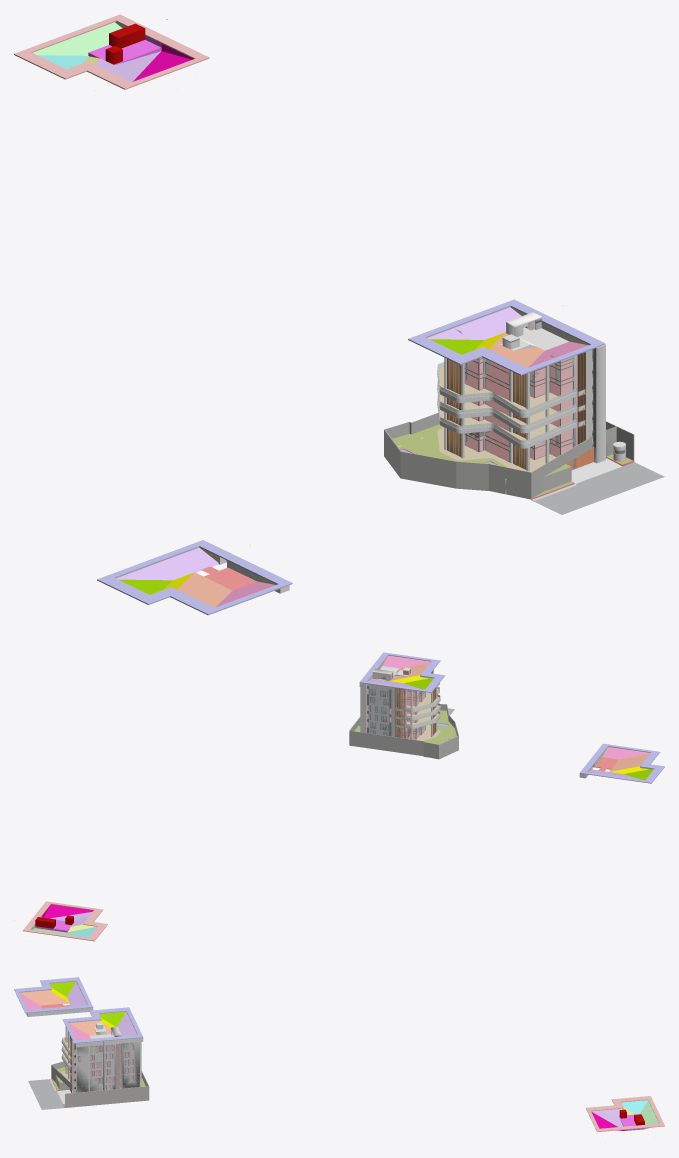
File: caroni_instanced.glb
3 renders of one model, top to bottom at view 1: azimuth 30°, elevation 25°; view 2: azimuth 150°, elevation 25°; view 3: azimuth 270°, elevation 25°, orthographic. The views are drawn at different scales.
Visible parts, largest first — view 1: Grupo#163 (×2), MURO, Componente#42, Grupo#124, Grupo#166 (×2), Grupo#65, Componente#48, Grupo#157, LOSA 2, Grupo#113, Componente#34, Grupo#121 (+2 smaller); view 2: Grupo#163 (×2), Componente#42, MURO, Grupo#72, Grupo#124, LOSA 2; view 3: Grupo#163 (×2), Panel_Sur, Componente#42, MURO, Grupo#124, Grupo#121 (×2), Panel_Norte, Grupo#65, Grupo#86 (×2), Grupo#166 (×2), Grupo#158.
Boxes of the visible parts, x1,y1,x2,y2 form: Grupo#163 (×2): [97, 299, 605, 615]; MURO: [384, 413, 634, 484]; Componente#42: [384, 438, 634, 499]; Grupo#124: [14, 14, 209, 89]; Grupo#166 (×2): [116, 307, 521, 580]; Grupo#65: [534, 462, 664, 514]; Componente#48: [464, 359, 592, 399]; Grupo#157: [32, 22, 122, 55]; LOSA 2: [392, 424, 506, 467]; Grupo#113: [596, 344, 605, 463]; Componente#34: [464, 433, 592, 460]; Grupo#121: [177, 572, 232, 607]; Grupo#163 (×2): [359, 652, 664, 783]; Componente#42: [349, 723, 458, 759]; MURO: [349, 704, 458, 750]; Grupo#72: [369, 686, 389, 735]; Grupo#124: [22, 901, 107, 941]; LOSA 2: [354, 710, 456, 744]; Grupo#163 (×2): [14, 977, 143, 1043]; Panel_Sur: [76, 1044, 115, 1092]; Componente#42: [51, 1071, 149, 1107]; MURO: [51, 1061, 149, 1099]; Grupo#124: [586, 1096, 664, 1132]; Grupo#121 (×2): [20, 990, 113, 1035]; Panel_Norte: [122, 1042, 139, 1088]; Grupo#65: [28, 1079, 64, 1109]; Grupo#86 (×2): [26, 1007, 143, 1047]; Grupo#166 (×2): [67, 981, 137, 1036]; Grupo#158: [591, 1109, 628, 1126].
Size of the model in its own units: 171 by 37.7 by 300.
